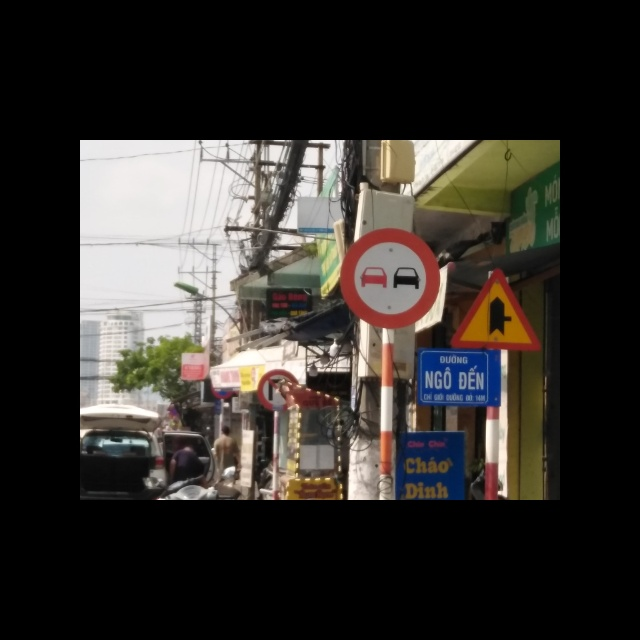Cấm vượt: (337, 224, 440, 327)
Giao nhau với đường không ưu tiên: (450, 267, 542, 353)
